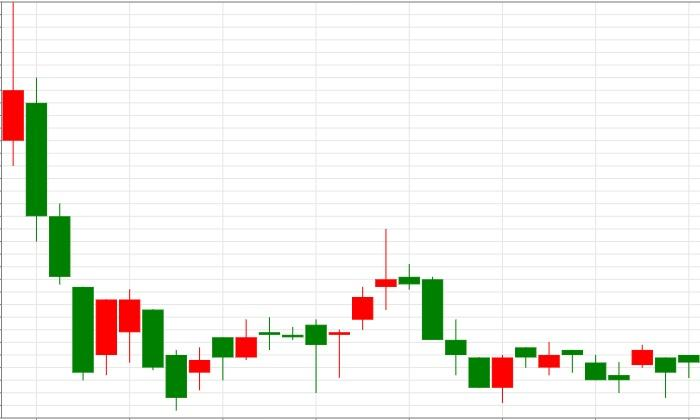bullish_engulfing_rise: (398, 264, 514, 402)
three_black_crows_fall: (305, 228, 491, 393)
